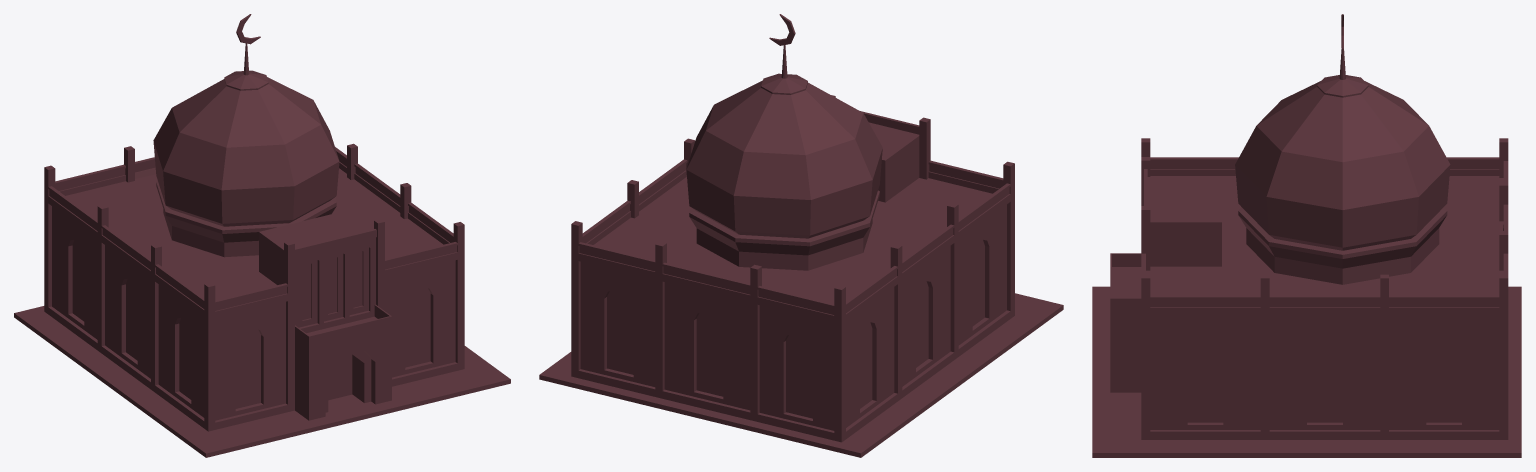
File: mosque.fbx
The picture shows the model from 3 angles, left to right: view 1: azimuth 30°, elevation 25°; view 2: azimuth 150°, elevation 25°; view 3: azimuth 270°, elevation 25°; orthographic projection. The views are drawn at different scales.
Parts seen in each view (by area): view 1: mosque; view 2: mosque; view 3: mosque.
Part boxes in pixels (x1=…): mosque: x1=14, y1=14, x2=510, y2=457; mosque: x1=539, y1=14, x2=1063, y2=457; mosque: x1=1092, y1=14, x2=1521, y2=457.
Bounding box in the file's own units: 22 × 22.33 × 24.
